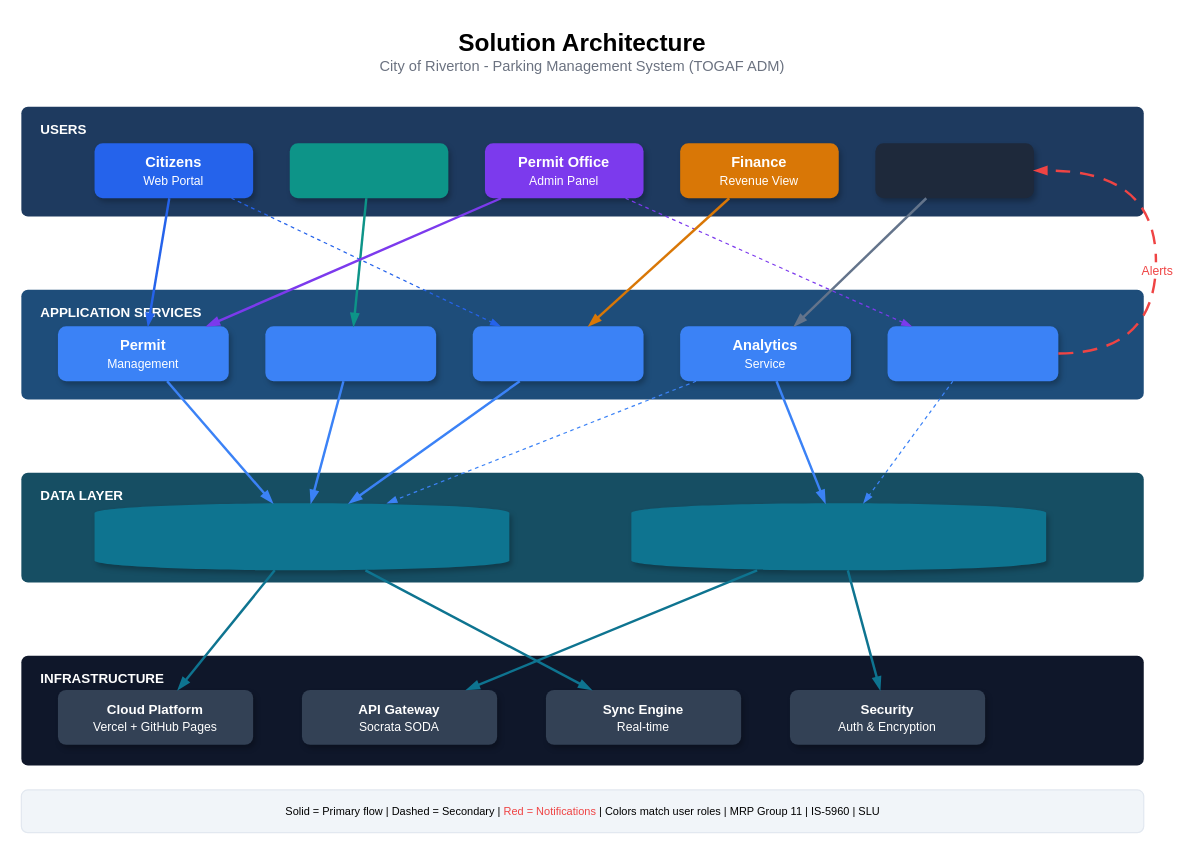
The diagram is 1193 pixels wide and 854 high, and some of its shapes have lost their labels. The shapes that lost their labels are listed below. From the top down, each one's centre as x and y in pixels, then its label:
point (369, 172): Officers Mobile App
point (955, 172): Leadership Executive View
point (351, 355): Enforcement Service
point (558, 355): Revenue Service
point (973, 355): Notification Service
point (302, 538): Central Parking Database Permits, Citations, Payments, Disputes
point (839, 538): External Data Feeds NYC Open Data, Weather, Transit, Census
